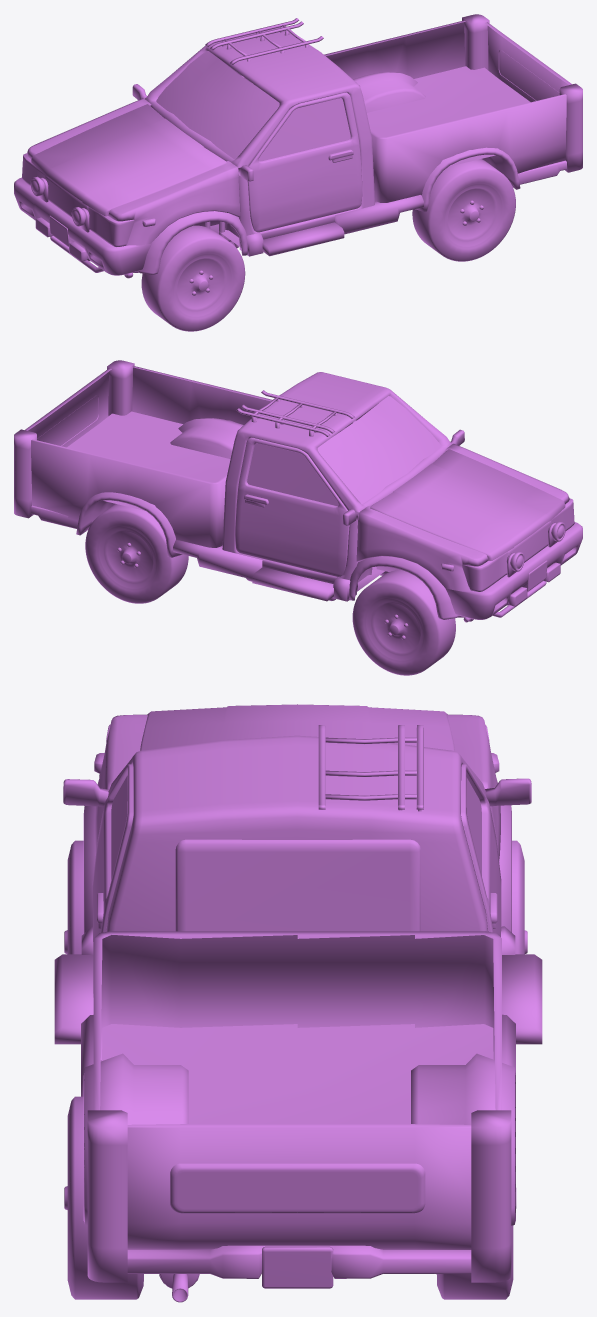
File: CountyTruck.fbx
The picture shows the model from 3 angles, top to bottom: view 1: azimuth 30°, elevation 25°; view 2: azimuth 150°, elevation 25°; view 3: azimuth 270°, elevation 25°; orthographic projection. The views are drawn at different scales.
Parts seen in each view (by area): view 1: lo_Prop_Car_A_LOD0; view 2: lo_Prop_Car_A_LOD0; view 3: lo_Prop_Car_A_LOD0.
Part boxes in pixels (<box>): lo_Prop_Car_A_LOD0: <box>14,14,582,331</box>; lo_Prop_Car_A_LOD0: <box>14,360,582,675</box>; lo_Prop_Car_A_LOD0: <box>54,704,542,1302</box>.
Size of what is drawn, in the model's own units: 6.28 by 2.52 by 2.73.
